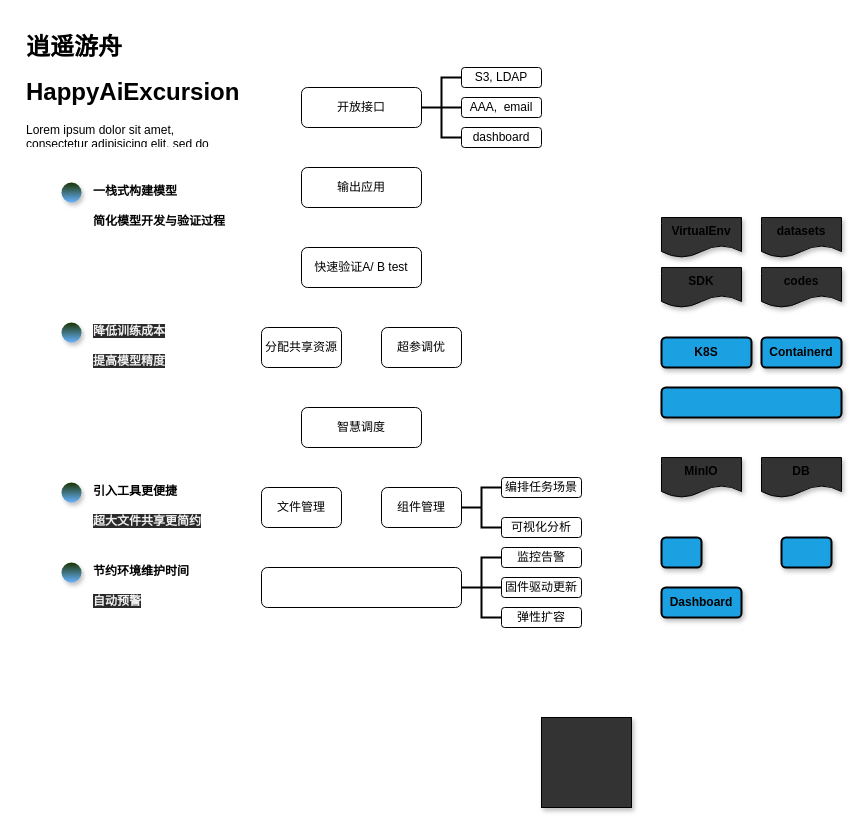
Image size: 865x832. Some labels were removed from this diagram. Each missing label, with the centre of its shape:
Ansible: (807,553)
calico: (752,403)
MARO: (682,553)
智慧运维: (361,587)
自动构建和发布 argo: (587,763)
